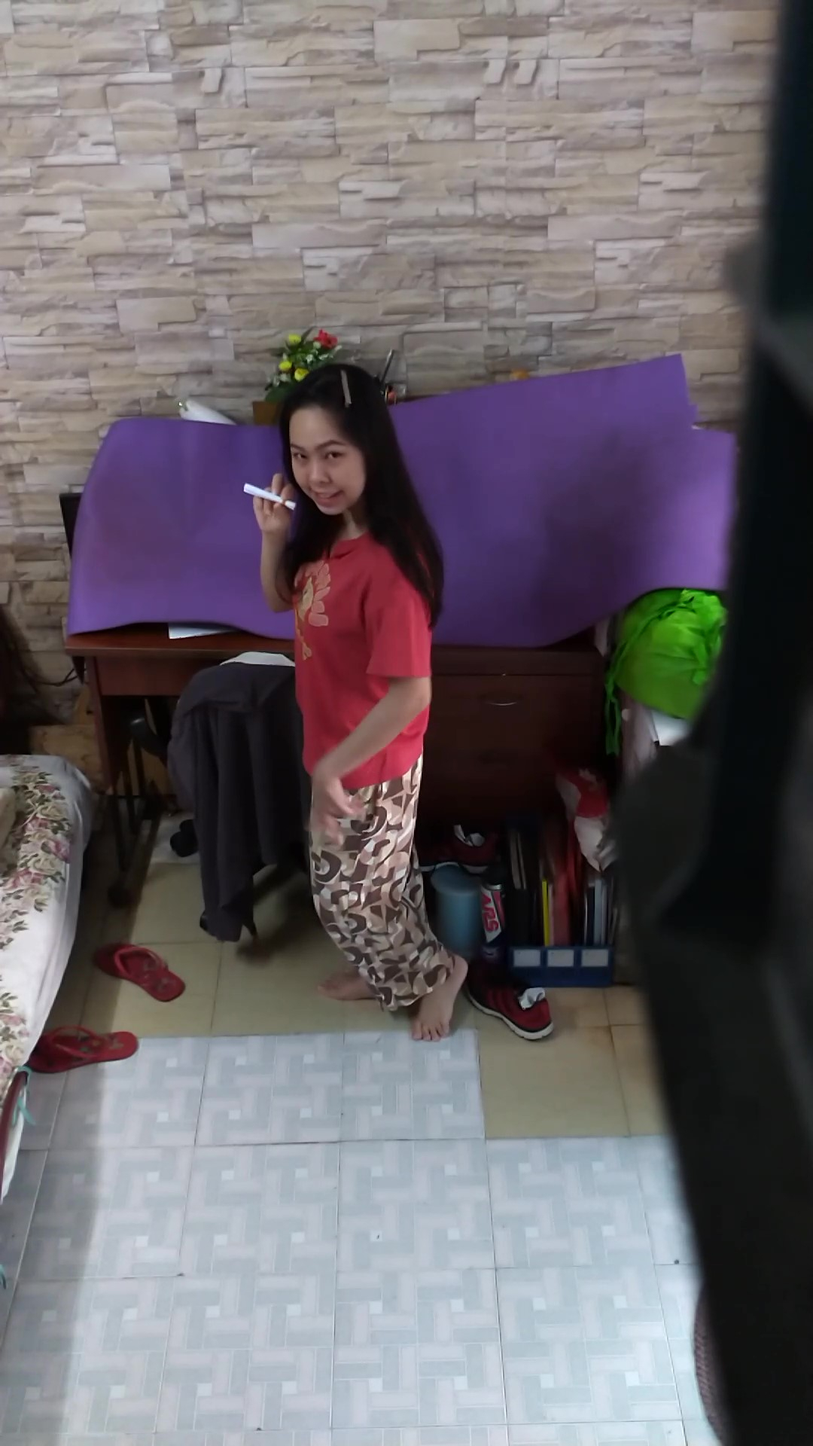cigarette: (240, 479, 283, 504)
